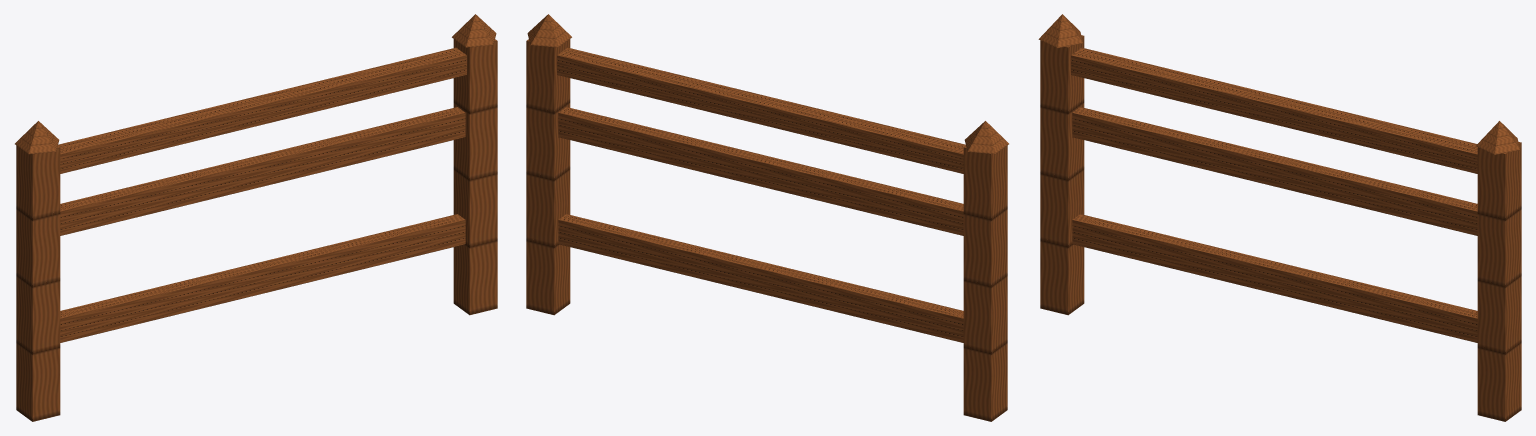
Rendered from caravan-park-and-campsite-timber-boundary-fence-d79961b2__35384.glb.
3 views of the same model, side by side, from view 1: azimuth 30°, elevation 25°; view 2: azimuth 150°, elevation 25°; view 3: azimuth 330°, elevation 25° (orthographic).
Parts seen in each view (by area): view 1: timber-boundary-fence-timber; view 2: timber-boundary-fence-timber; view 3: timber-boundary-fence-timber.
Part boxes in pixels (x1,y1,x2,y2): timber-boundary-fence-timber: (15,14,497,421); timber-boundary-fence-timber: (526,14,1008,421); timber-boundary-fence-timber: (1038,14,1521,421).
Bounding box in the file's own units: 2.04 × 1.2 × 0.1711.
Materials: 1 (1 with a texture image).
